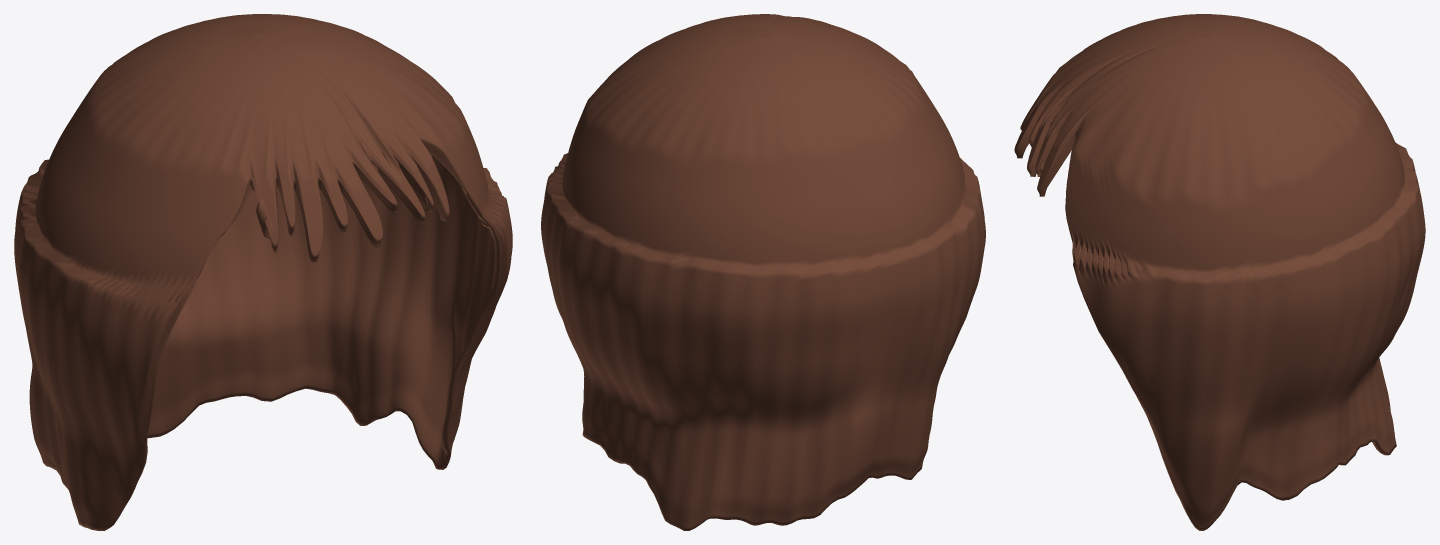
File: side-sweep-beanie.glb
3 renders of one model, left to right at view 1: azimuth 30°, elevation 25°; view 2: azimuth 150°, elevation 25°; view 3: azimuth 270°, elevation 25°, orthographic. The views are drawn at different scales.
Visible parts, largest first — view 1: Hair / layered lob; view 2: Hair / layered lob; view 3: Hair / layered lob.
Part boxes in pixels (box(x1,y1,x2,y2)): Hair / layered lob: box(14, 14, 512, 530); Hair / layered lob: box(541, 14, 985, 530); Hair / layered lob: box(1014, 14, 1425, 530).
Bounding box in the file's own units: 0.8388 × 0.8786 × 0.7788.
